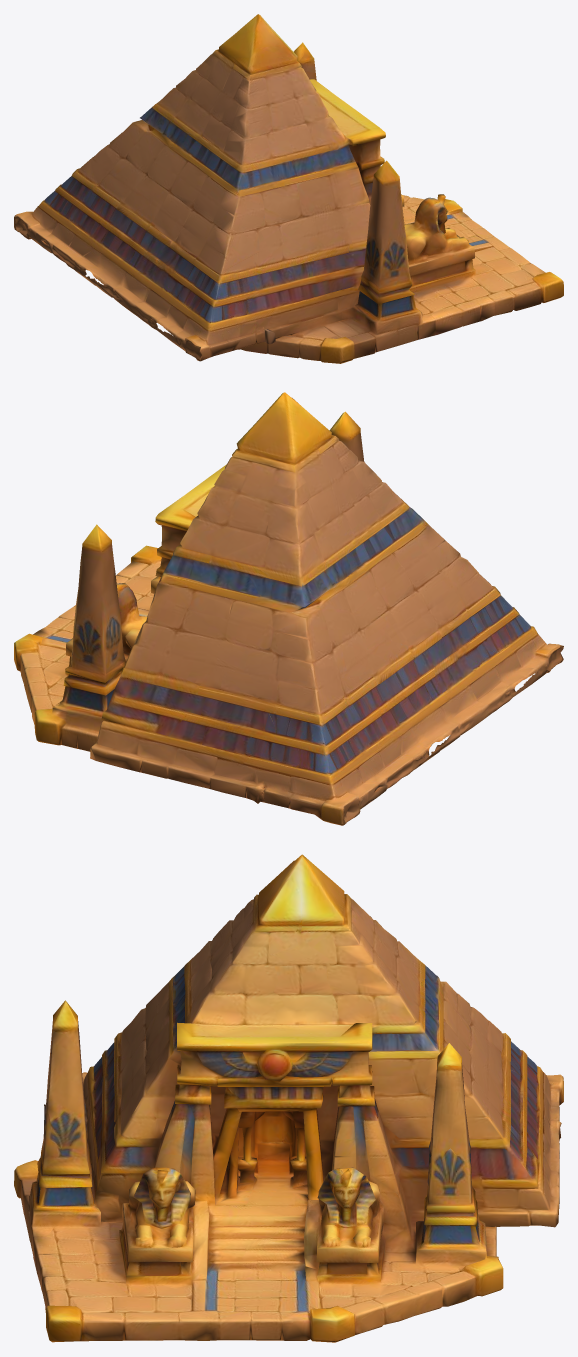
The picture shows the model from 3 angles, top to bottom: view 1: azimuth 30°, elevation 25°; view 2: azimuth 150°, elevation 25°; view 3: azimuth 270°, elevation 25°; orthographic projection. The views are drawn at different scales.
Parts seen in each view (by area): view 1: tripo_node_fb557db5-19c9-4a09-a8b1-0899a89a8537; view 2: tripo_node_fb557db5-19c9-4a09-a8b1-0899a89a8537; view 3: tripo_node_fb557db5-19c9-4a09-a8b1-0899a89a8537.
Part boxes in pixels (x1=…): tripo_node_fb557db5-19c9-4a09-a8b1-0899a89a8537: x1=14, y1=14, x2=563, y2=363; tripo_node_fb557db5-19c9-4a09-a8b1-0899a89a8537: x1=14, y1=392, x2=563, y2=825; tripo_node_fb557db5-19c9-4a09-a8b1-0899a89a8537: x1=14, y1=854, x2=563, y2=1342.
Bounding box in the file's own units: 0.9976 × 0.7083 × 1.
Materials: 1 (1 with a texture image).
